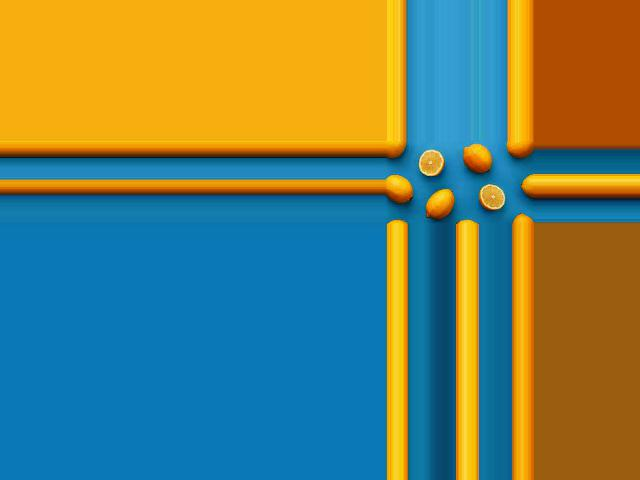lemon: (384, 142, 409, 161)
